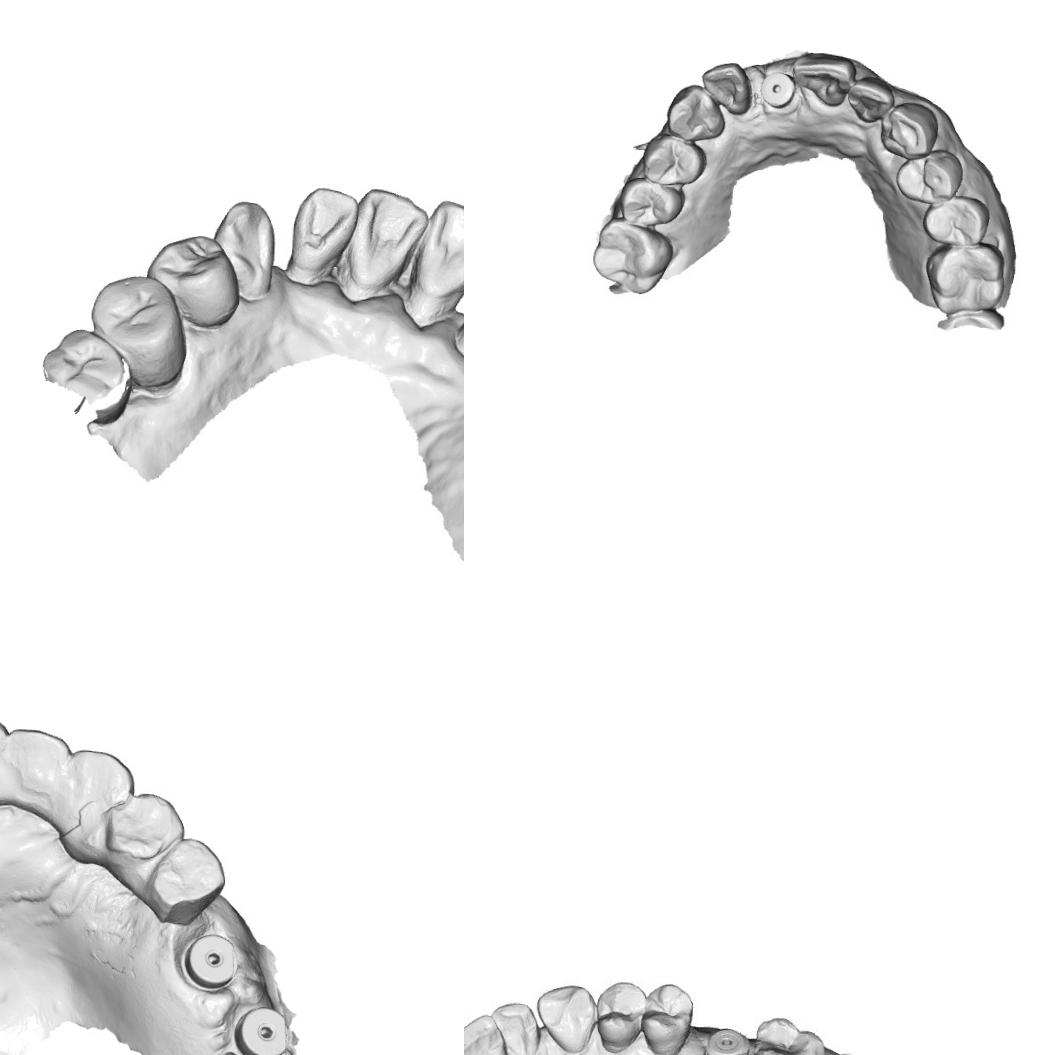canine: (212, 196, 278, 304), (538, 982, 597, 1053), (64, 748, 138, 804), (878, 100, 941, 161), (664, 82, 727, 142)
implant: (180, 931, 240, 992), (233, 1002, 293, 1055), (758, 68, 797, 110), (703, 1023, 752, 1055)
incisor: (350, 184, 432, 288), (288, 182, 360, 274), (416, 198, 464, 298), (790, 50, 858, 109), (1, 726, 73, 780), (698, 60, 754, 117), (846, 72, 896, 125), (493, 1001, 542, 1055), (464, 1014, 512, 1055)
molar: (589, 215, 675, 297), (922, 241, 1006, 317), (755, 1019, 824, 1055)
premolar: (86, 272, 188, 387), (145, 229, 241, 329), (149, 834, 229, 914), (104, 789, 182, 864), (894, 148, 964, 207), (921, 194, 991, 248), (642, 983, 694, 1055), (640, 132, 709, 186), (596, 978, 647, 1051), (618, 176, 686, 228)
